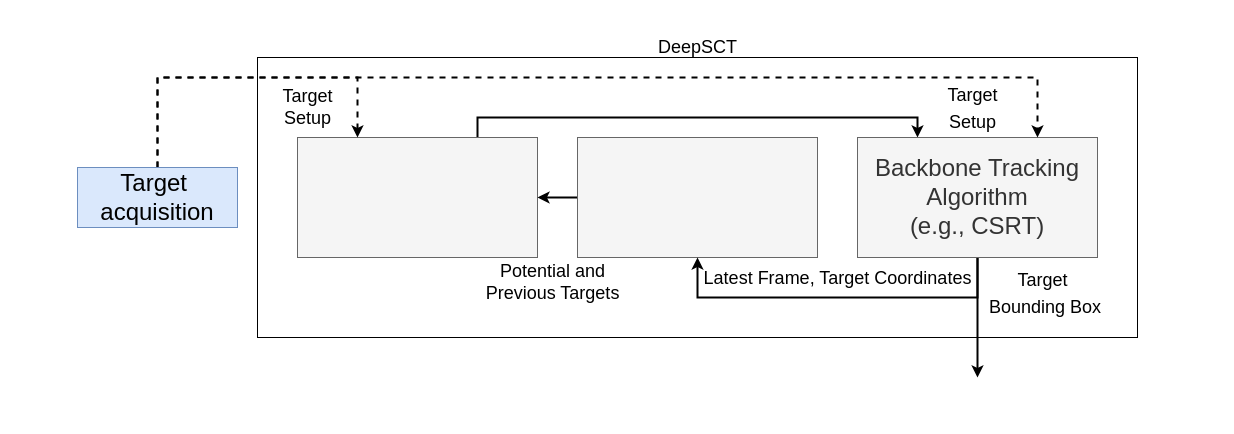
Image size: 1234x434. Some labels were removed from this diagram. The shapes that lost their labels are listed below. From the top down, each one's centre as x and y in pixels, then its label:
At (417,197): "Re-identification Sub-block".
At (697,197): "Detection Sub-block".
